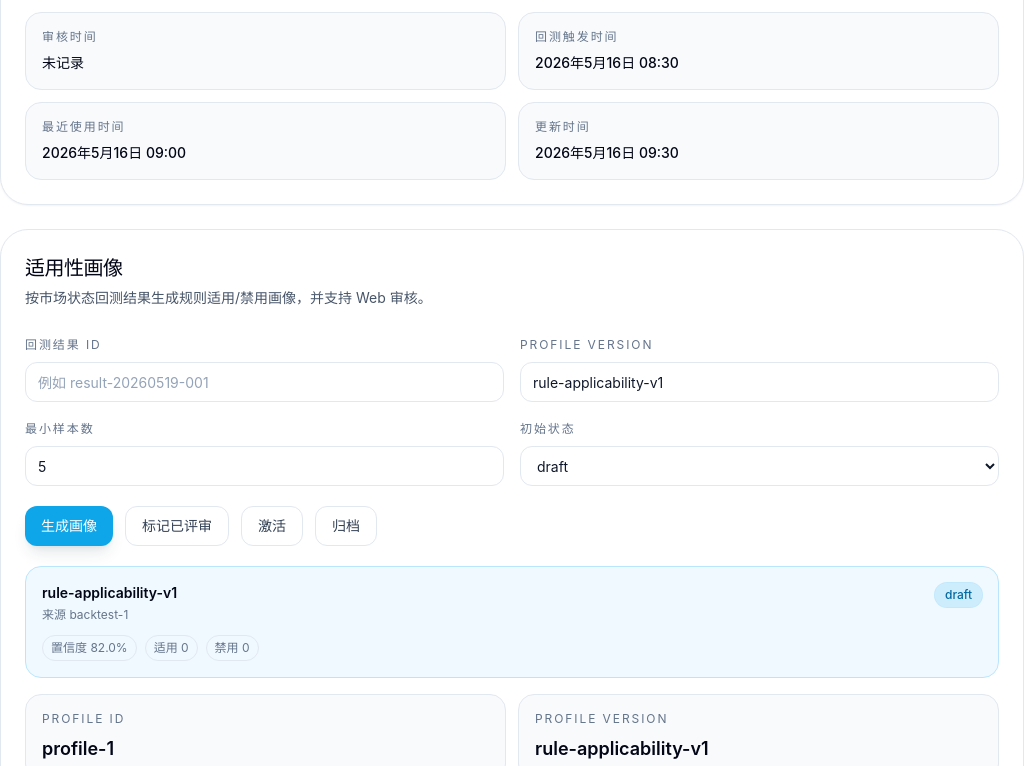
it: RulePoolDetailPage › renders rule detail sections, supports review actions and submits rule backtest job
(page scrolled)
Expected: the heading "适用性画像" is shown, [25,256,122,280]
Type "backtest-1" into the field labelled "回测结果 ID" at x=264, y=382, box [25,362,504,402]
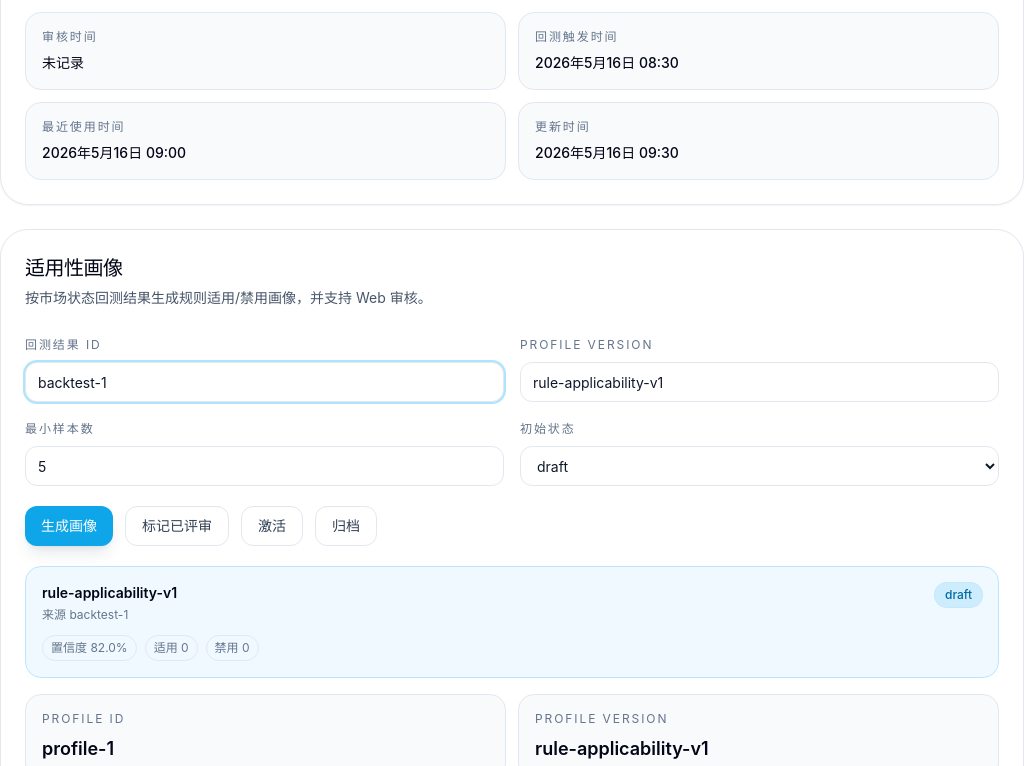
Click the button "生成画像" at x=69, y=526, box [25,506,113,546]
(page scrolled)
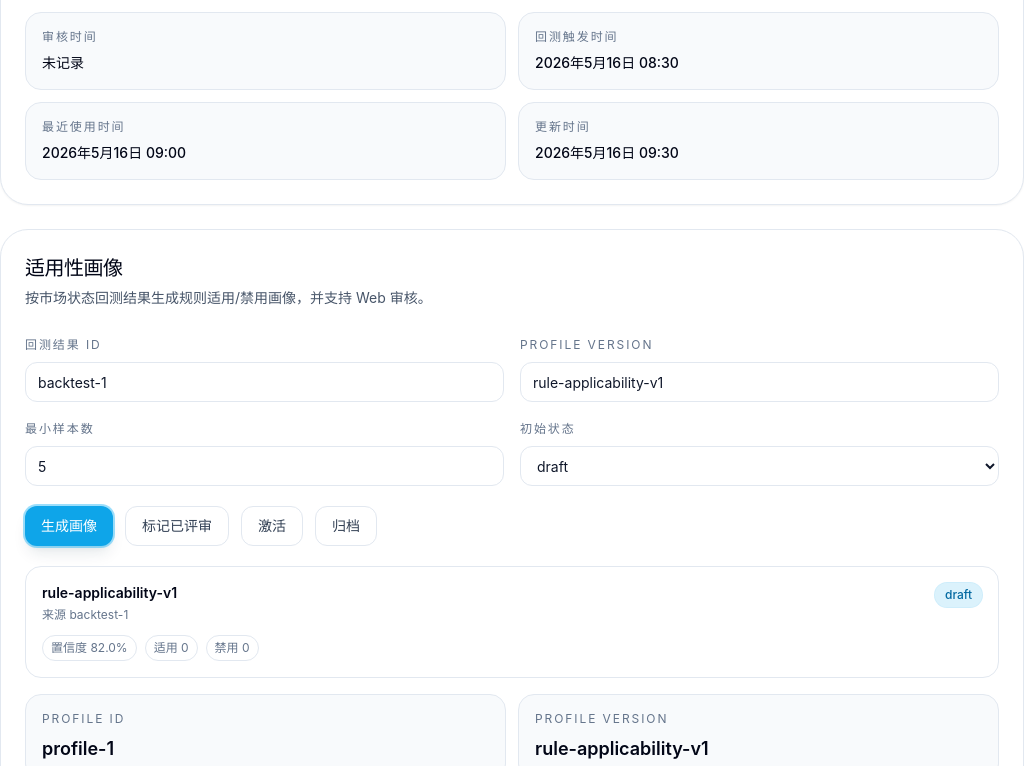
Click the button "激活" at x=272, y=526, box [241,506,303,546]
(page scrolled)
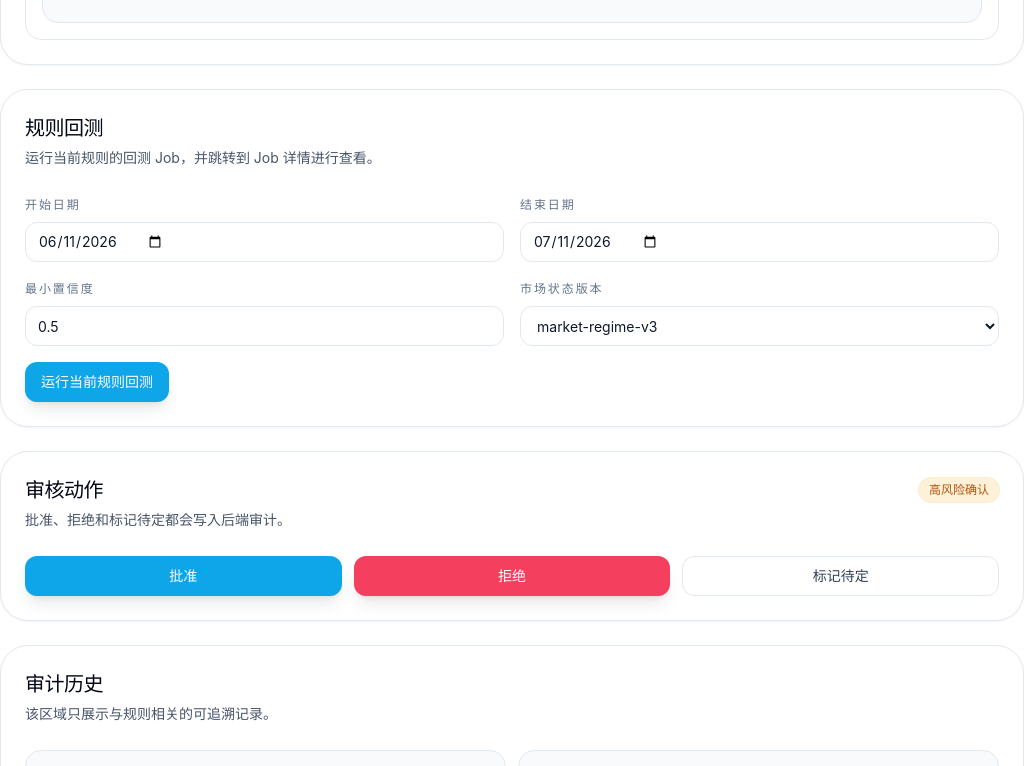
Click the button "运行当前规则回测" at x=97, y=382, box [25,362,169,402]
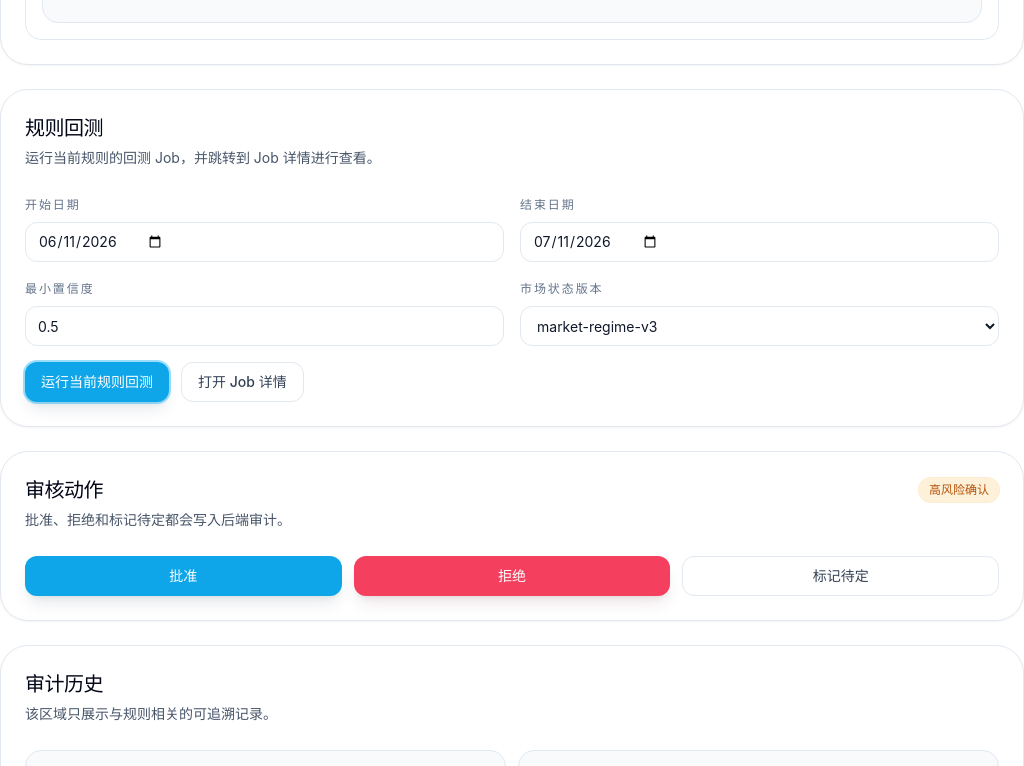
Click the button "批准" at x=183, y=576, box [25,556,342,596]
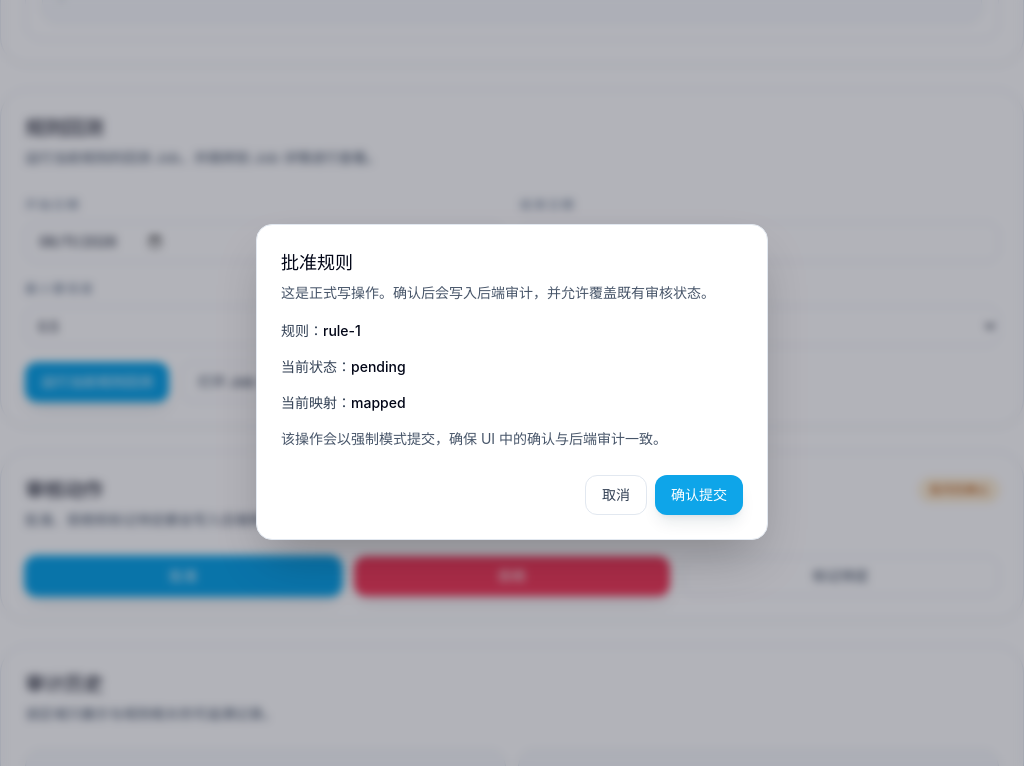
Now the dialog "批准规则" is shown, box [256,224,768,540]
Click the button "确认提交" at x=699, y=495, box [655,475,743,515]
(page scrolled)
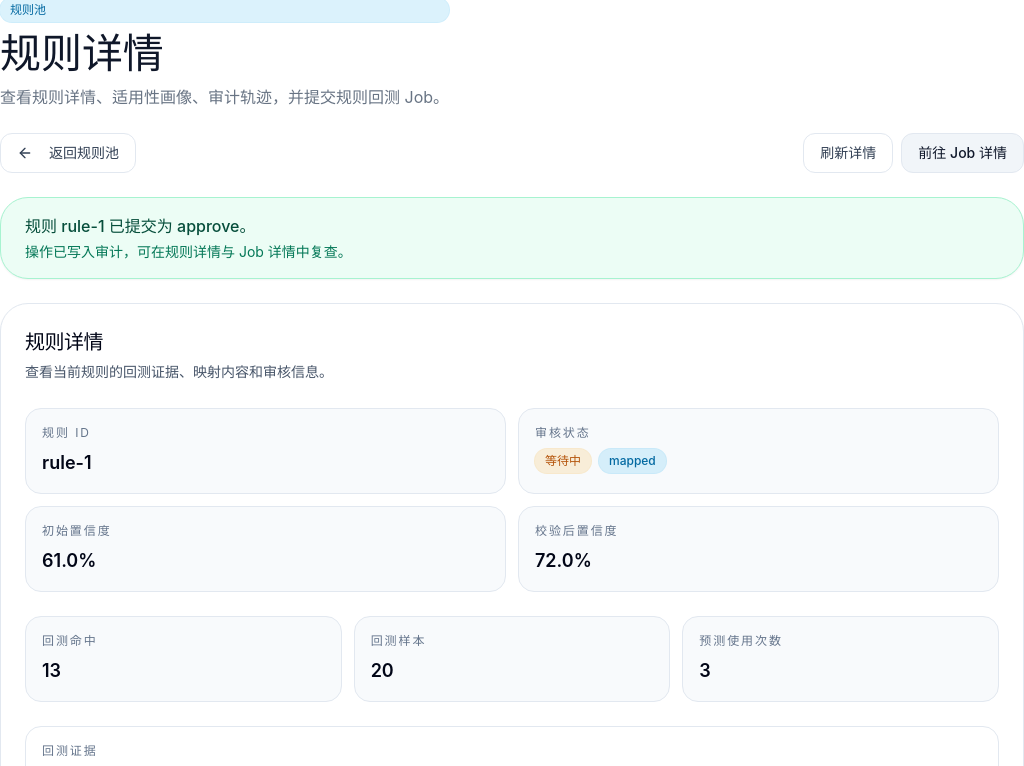
Now the text "规则 rule-1 已提交为 approve。" is shown, box [25,216,256,236]
